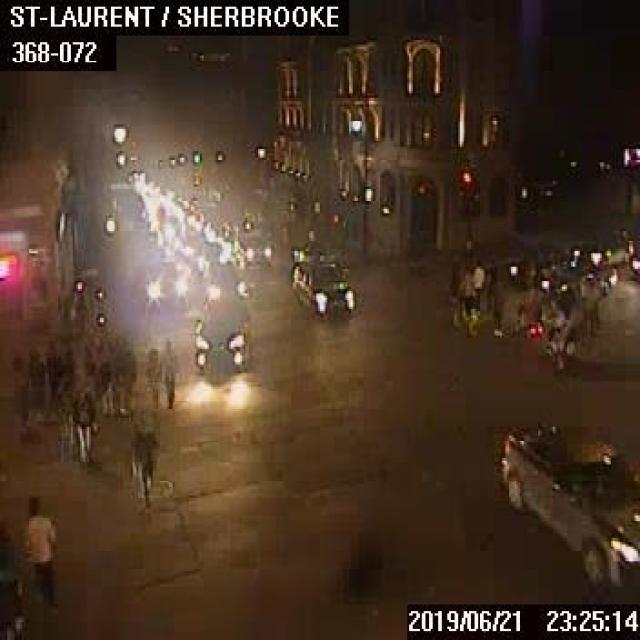pedestrian: (22, 496, 58, 609), (0, 520, 22, 638), (128, 414, 157, 502), (142, 336, 174, 406), (114, 334, 135, 412), (9, 355, 29, 436), (453, 268, 478, 329), (94, 338, 114, 414), (71, 389, 91, 462), (580, 277, 595, 336), (471, 259, 484, 311)
vehicle: (498, 420, 638, 598), (289, 256, 355, 320), (536, 259, 616, 300), (192, 313, 244, 369), (568, 224, 630, 266), (140, 256, 187, 309), (202, 262, 249, 314), (508, 241, 558, 287), (232, 231, 271, 265), (197, 237, 226, 275), (629, 235, 638, 280)
